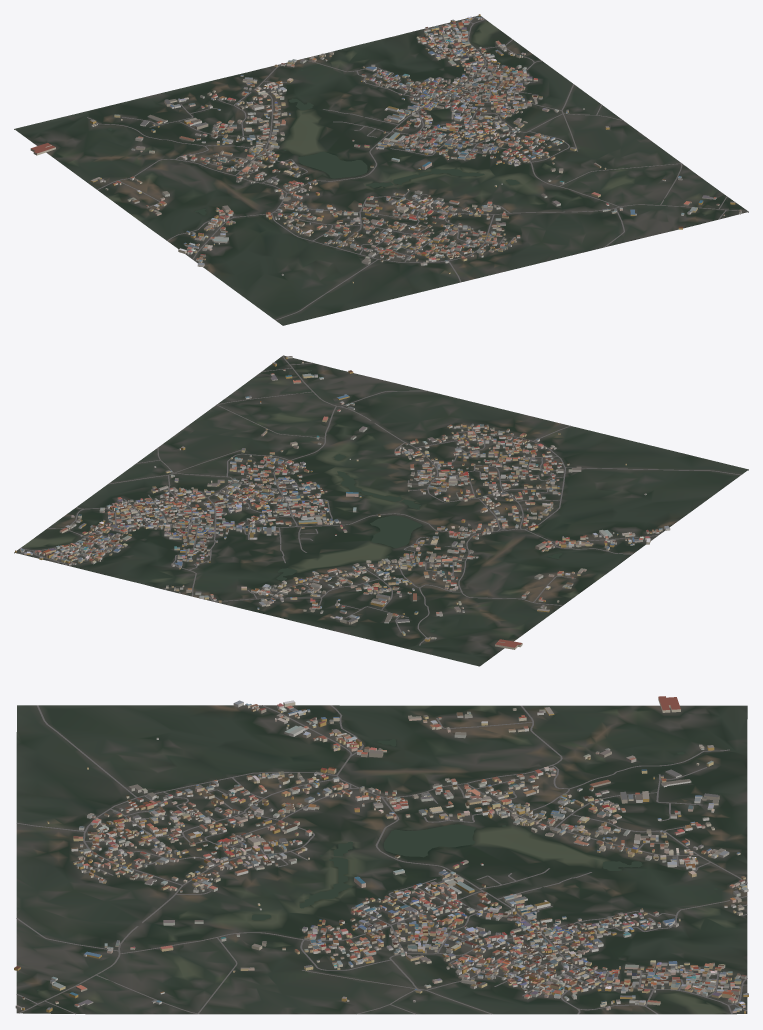
3 renders of one model, top to bottom at view 1: azimuth 30°, elevation 25°; view 2: azimuth 150°, elevation 25°; view 3: azimuth 270°, elevation 25°, orthographic. The views are drawn at different scales.
Parts seen in each view (by area): view 1: ground, buildings, roads, water; view 2: ground, buildings, roads, water; view 3: ground, buildings, roads, water.
Boxes of the visible parts, x1=… form: ground: x1=14, y1=15, x2=748, y2=325; buildings: x1=30, y1=14, x2=741, y2=283; roads: x1=87, y1=16, x2=748, y2=320; water: x1=108, y1=69, x2=705, y2=215; ground: x1=14, y1=355, x2=748, y2=666; buildings: x1=15, y1=356, x2=670, y2=649; roads: x1=18, y1=356, x2=741, y2=645; water: x1=145, y1=370, x2=561, y2=631; ground: x1=16, y1=705, x2=747, y2=1014; buildings: x1=14, y1=696, x2=748, y2=1013; roads: x1=16, y1=705, x2=747, y2=1014; water: x1=37, y1=739, x2=717, y2=990.
Bounding box in the file's own units: 1434 × 13.76 × 1410.
